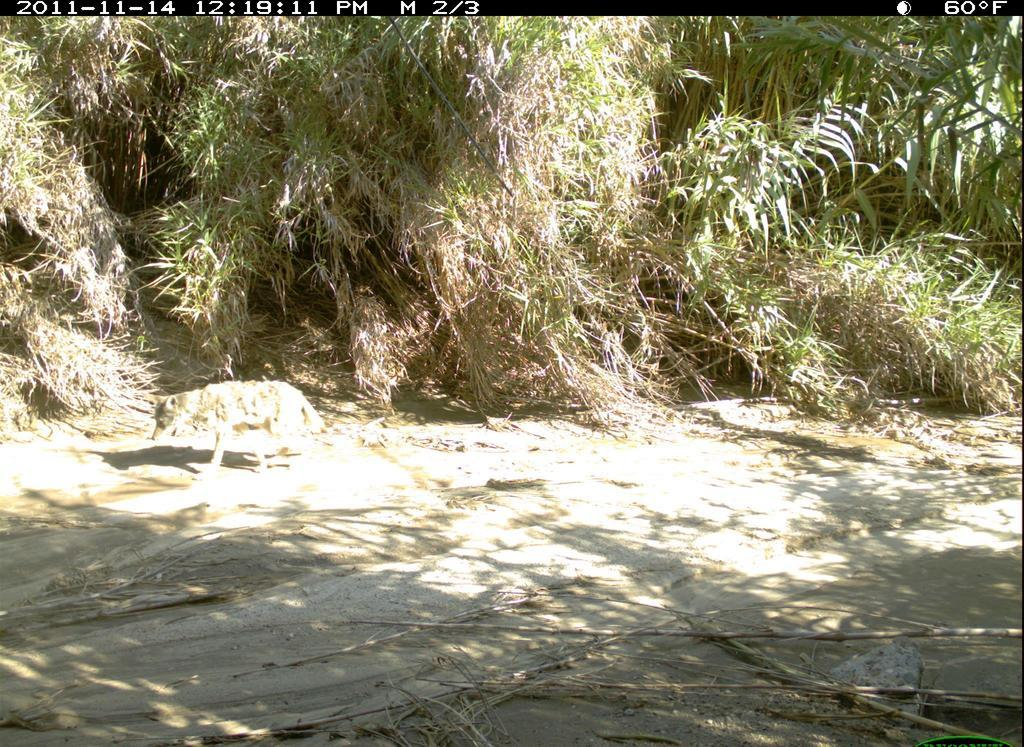coyote: (145, 370, 328, 488)
